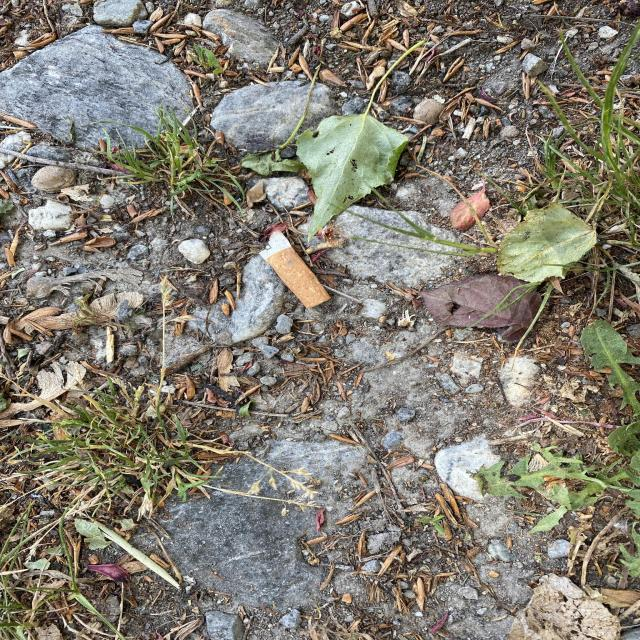other waste: (258, 229, 332, 310)
